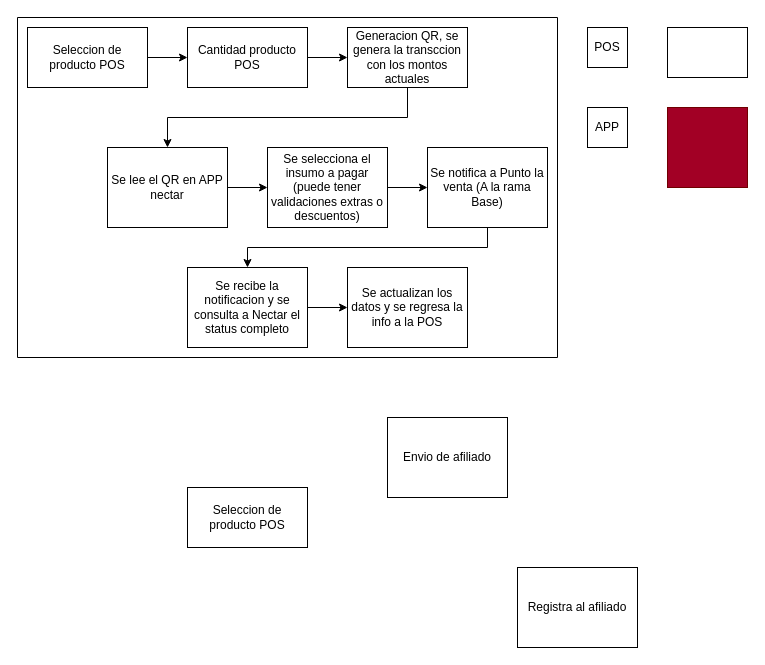
The diagram is 765 pixels wide and 665 high, and some of its shapes have lost their labels. Here are the shapes that lost their labels. From the top down, the box of each, then its label:
(666, 26, 748, 78): API DELTA
(666, 106, 748, 188): API BASE
(16, 16, 558, 358): Transaccion QR
